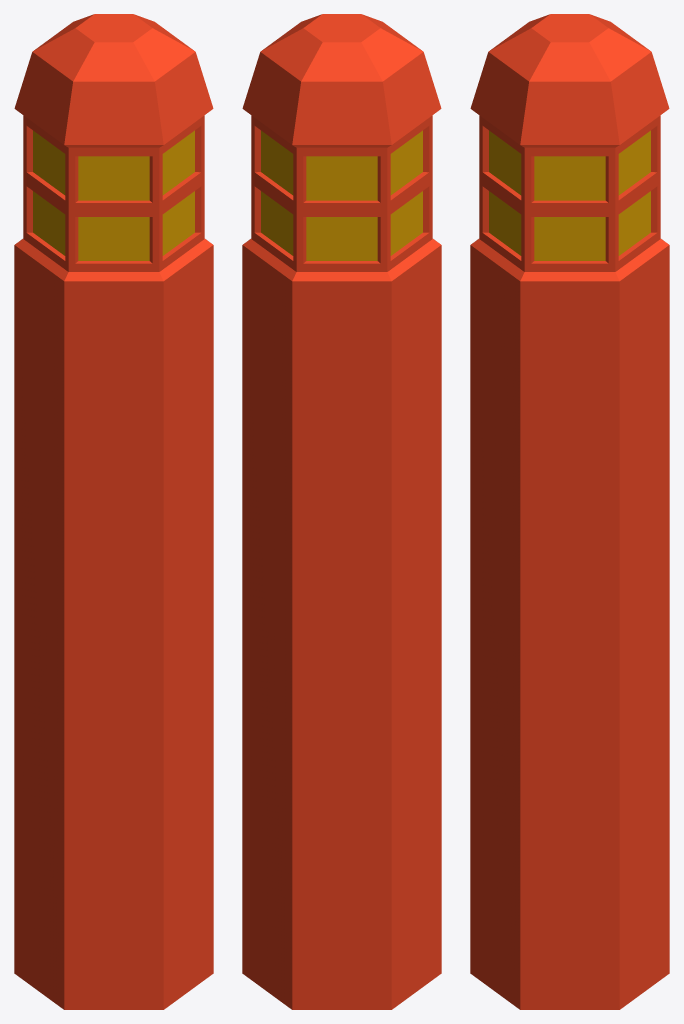
Rendered from SM_Lamp_Sidewalk_CH_City.fbx.
The picture shows the model from 3 angles, left to right: view 1: azimuth 30°, elevation 25°; view 2: azimuth 150°, elevation 25°; view 3: azimuth 270°, elevation 25°; orthographic projection.
Visible parts, largest first — view 1: SM_Lamp_Sidewalk_CH_City; view 2: SM_Lamp_Sidewalk_CH_City; view 3: SM_Lamp_Sidewalk_CH_City.
Boxes of the visible parts, x1=… form: SM_Lamp_Sidewalk_CH_City: x1=14, y1=14, x2=213, y2=1009; SM_Lamp_Sidewalk_CH_City: x1=242, y1=14, x2=441, y2=1009; SM_Lamp_Sidewalk_CH_City: x1=470, y1=14, x2=669, y2=1009.
Size of the model in its own units: 0.2012 by 1.22 by 0.2323.
